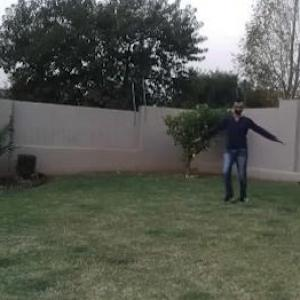land: (189, 94, 277, 198)
